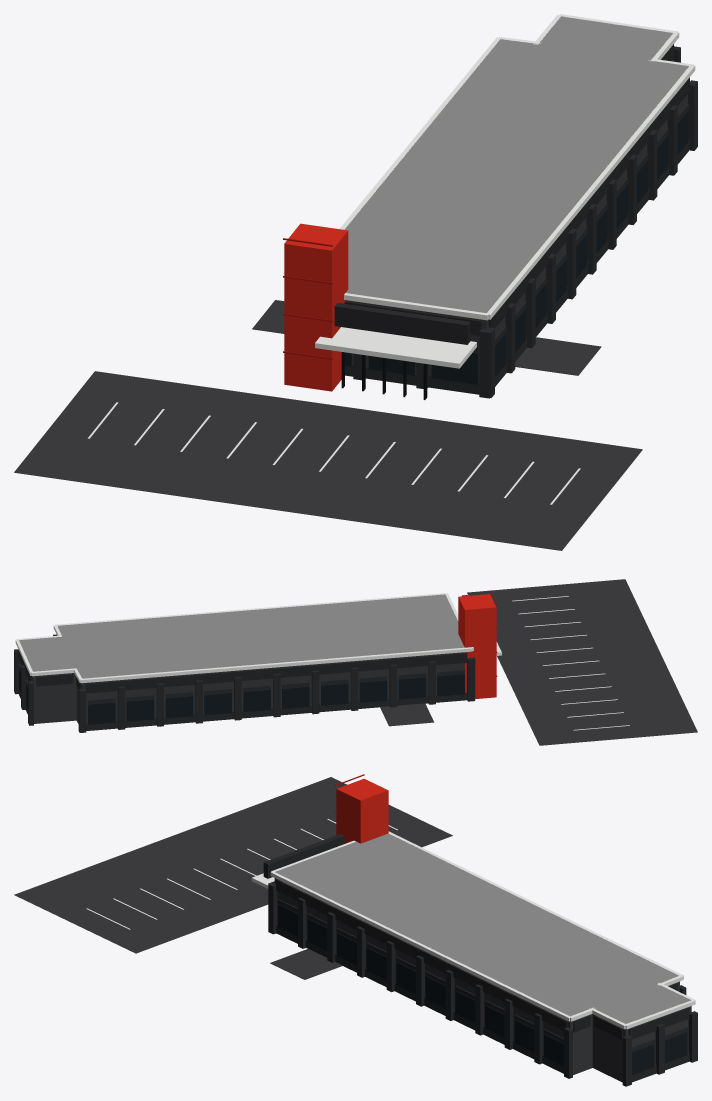
Rendered from mcd2.glb.
3 views of the same model, one above another, from view 1: azimuth 30°, elevation 25°; view 2: azimuth 150°, elevation 25°; view 3: azimuth 270°, elevation 25° (orthographic). The views are drawn at different scales.
Parts seen in each view (by area): view 1: mcd2_lod0; view 2: mcd2_lod0; view 3: mcd2_lod0.
Part boxes in pixels (x1,y1,x2,y2): mcd2_lod0: (14, 14, 697, 550); mcd2_lod0: (14, 579, 697, 745); mcd2_lod0: (14, 774, 697, 1086).
Size of what is drawn, in the model's own units: 55.52 by 8.94 by 51.83.
